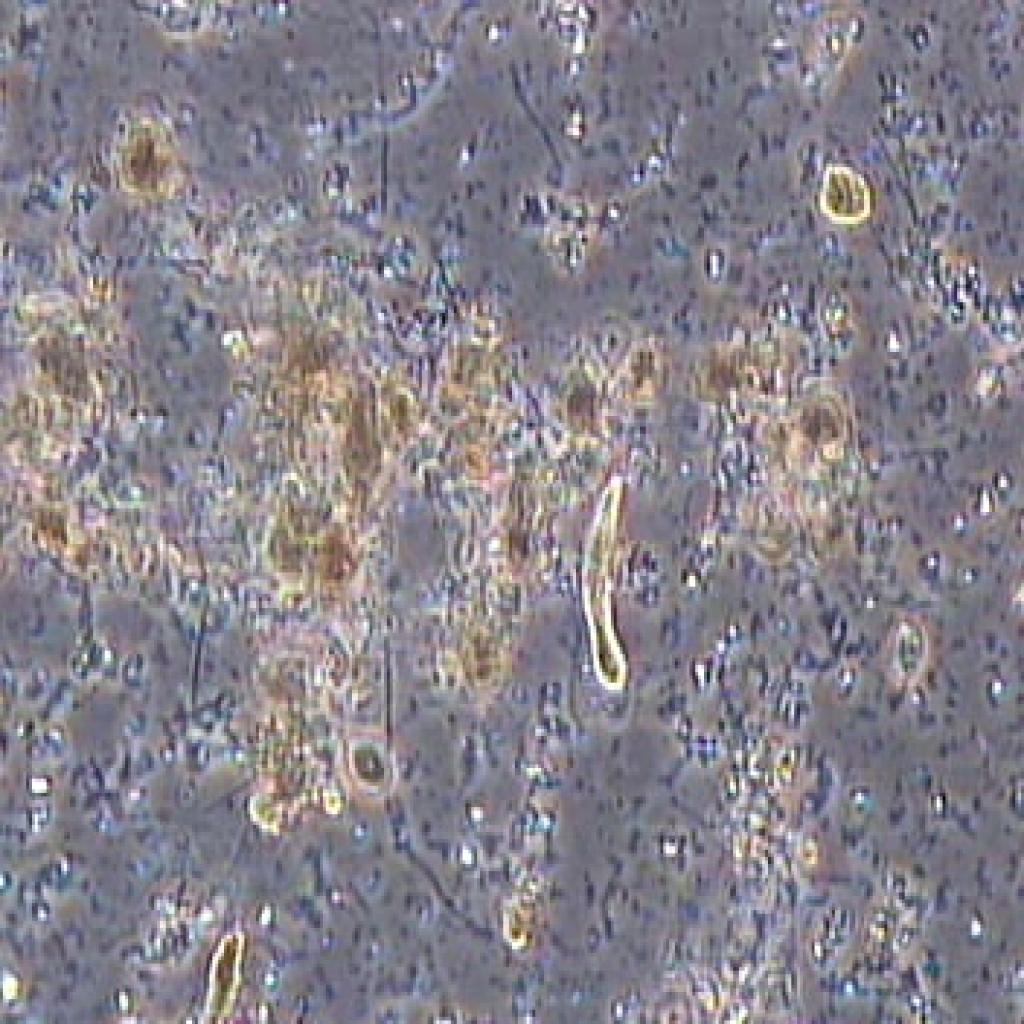Chaetonotus: (569, 468, 644, 706)
